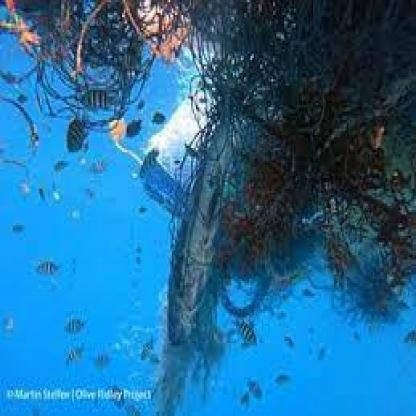net: (223, 2, 416, 290)
